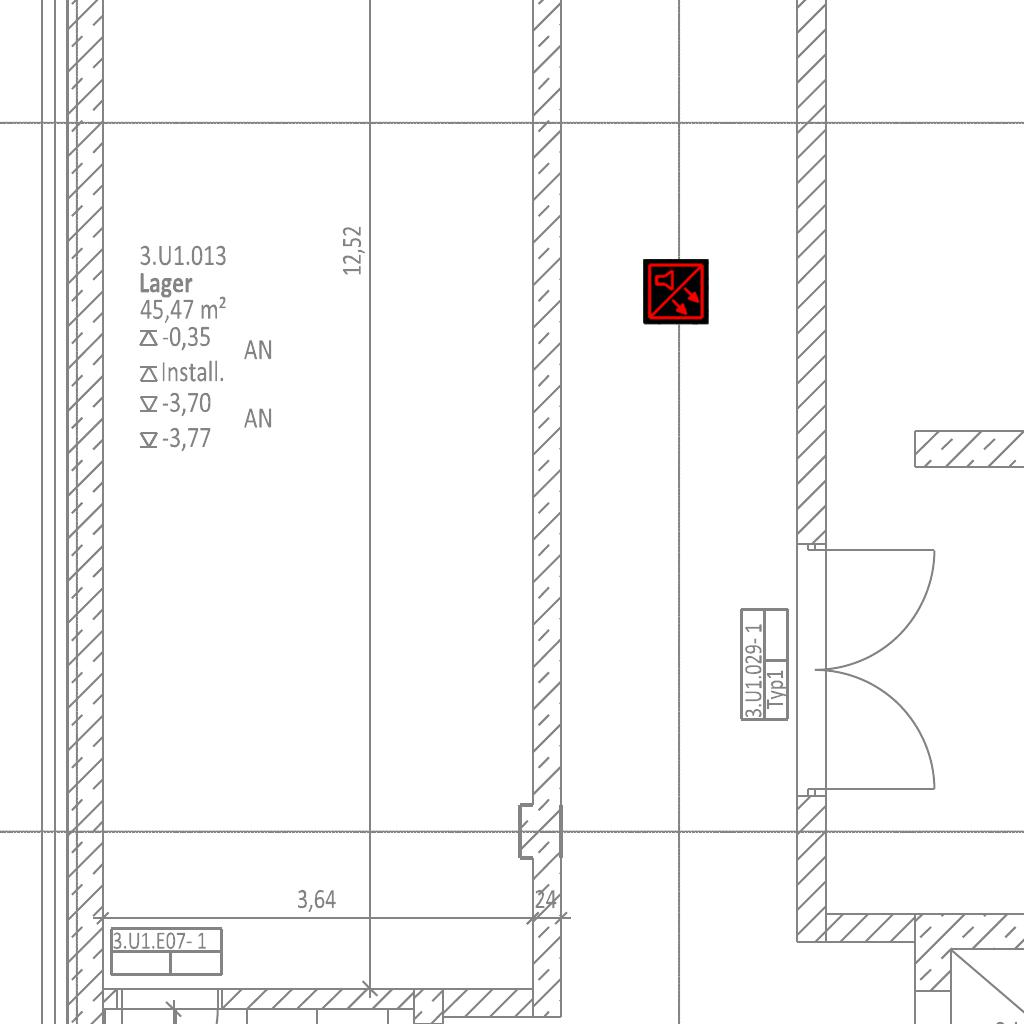OKW_Multisensormelder_(Kombination_optischer_Rauch-Kahlenmonoxid_Waerme-Melder): (643, 259, 709, 325)
